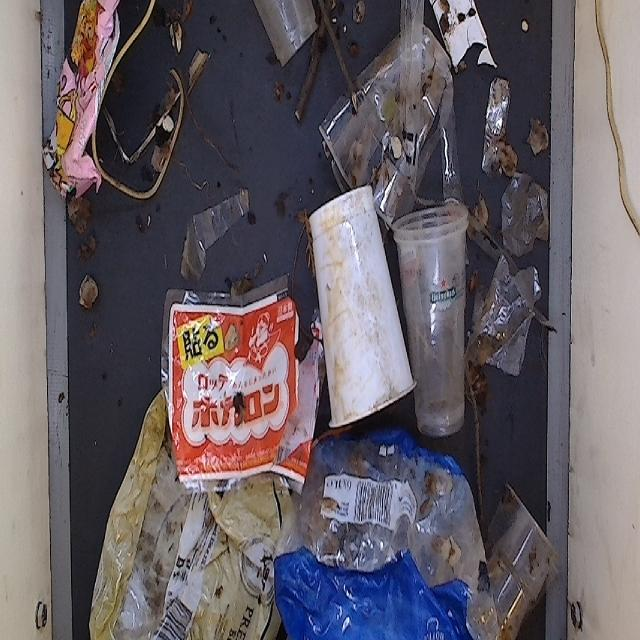food_packaging: (305, 182, 419, 444)
food_wrapping: (72, 392, 298, 640), (281, 405, 493, 640), (154, 271, 323, 511), (28, 0, 116, 202)
plastic_cups: (329, 20, 456, 224), (392, 208, 480, 437), (478, 478, 560, 640), (245, 0, 325, 66)
plastic_films: (473, 238, 541, 382), (180, 202, 252, 268), (500, 165, 548, 262), (480, 70, 510, 188)
undef_hard_plastic: (423, 0, 501, 78)
